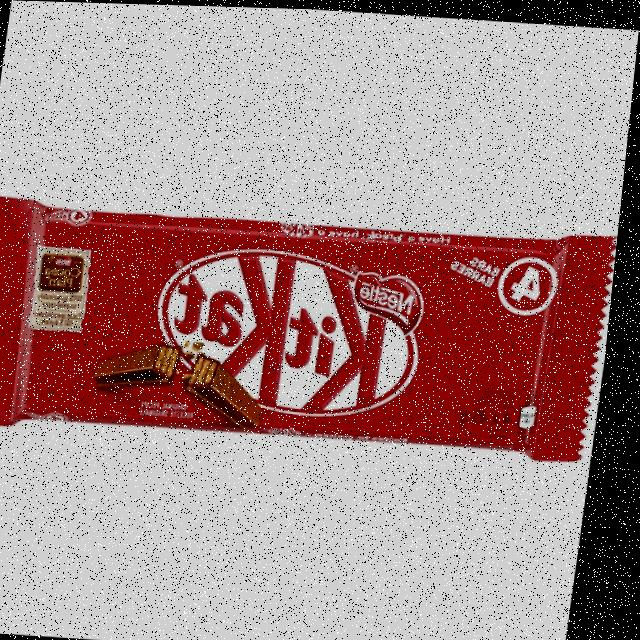kitkat: (0, 192, 624, 463)
